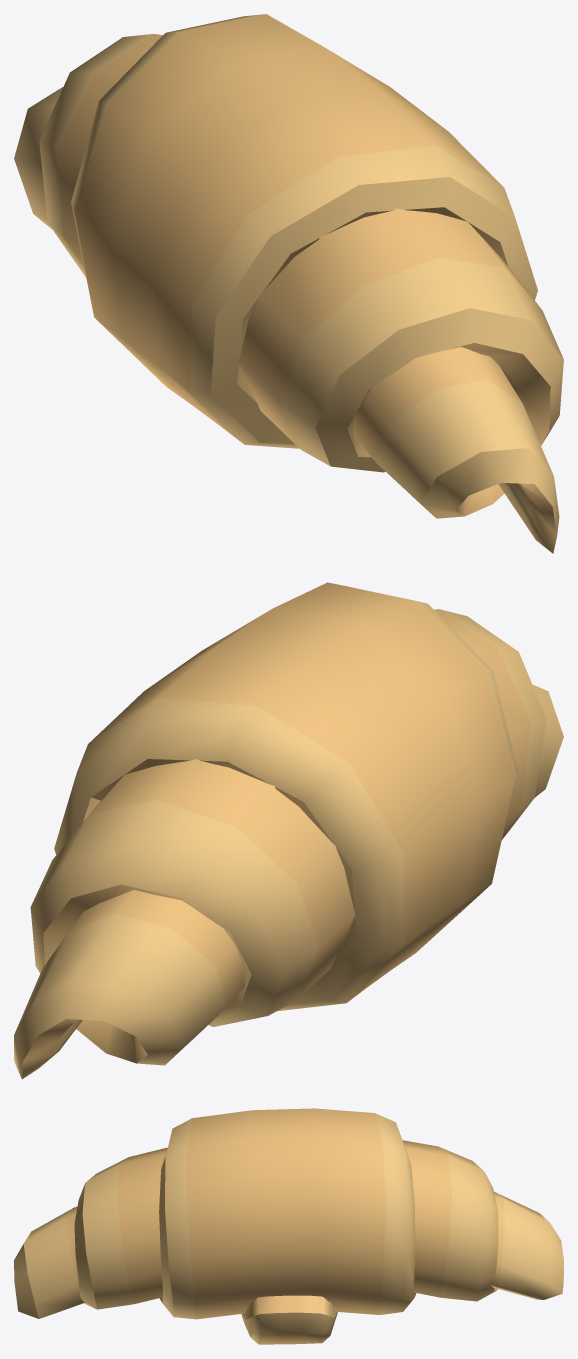
The model's file is Croassant.fbx.
3 renders of one model, top to bottom at view 1: azimuth 30°, elevation 25°; view 2: azimuth 150°, elevation 25°; view 3: azimuth 270°, elevation 25°, orthographic. The views are drawn at different scales.
Visible parts, largest first — view 1: Croassant; view 2: Croassant; view 3: Croassant.
Part boxes in pixels (box(x1,y1,x2,y2)): Croassant: box(14, 14, 563, 553); Croassant: box(14, 582, 563, 1079); Croassant: box(14, 1108, 563, 1344).
Bounding box in the file's own units: 41.57 × 44.13 × 105.
